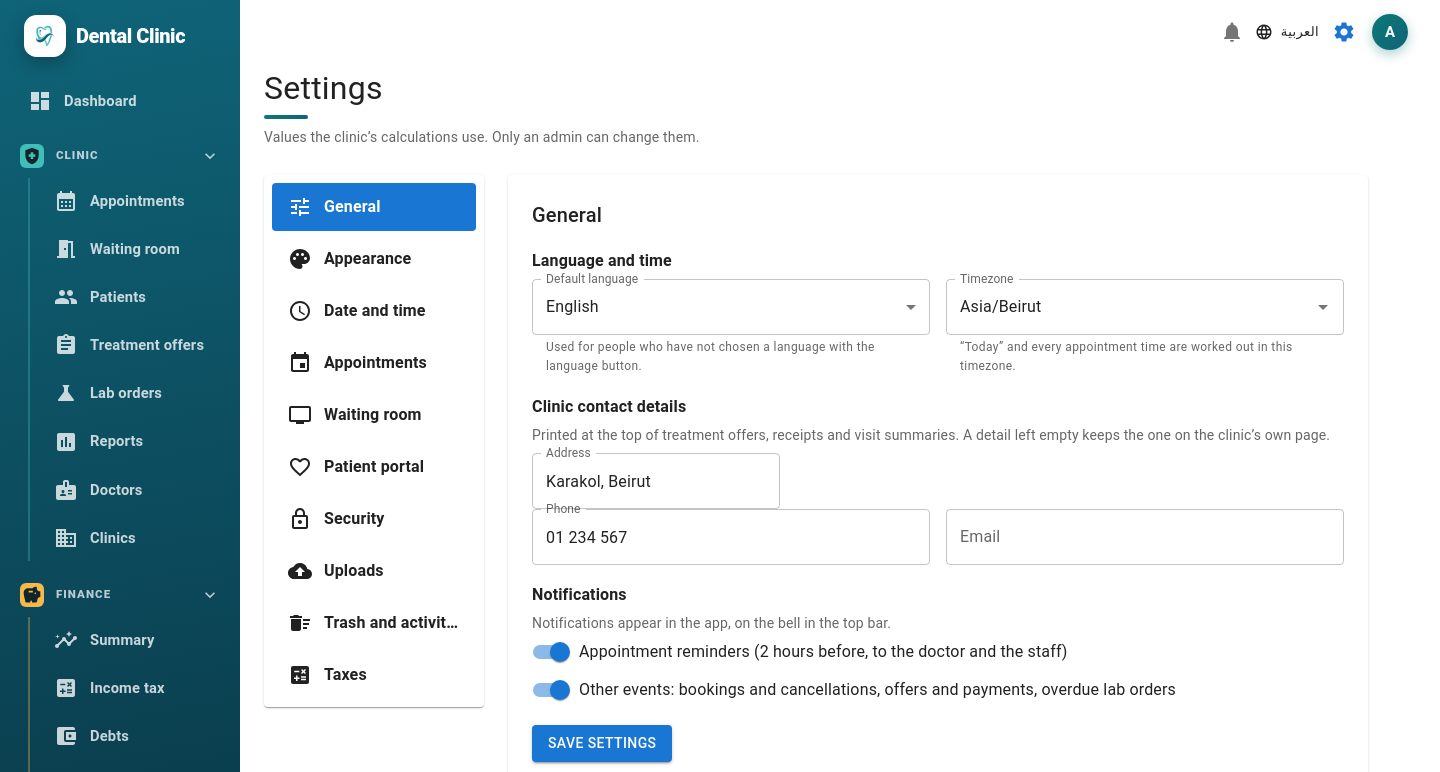
General settings › shows the server’s refusal
The width and height of the screenshot is (1440, 772).
(page scrolled)
Check: the field labelled "Address" is shown, box left=532, top=453, right=780, bottom=509
Click the button "Save settings". click: [602, 744]
box: left=532, top=725, right=672, bottom=762
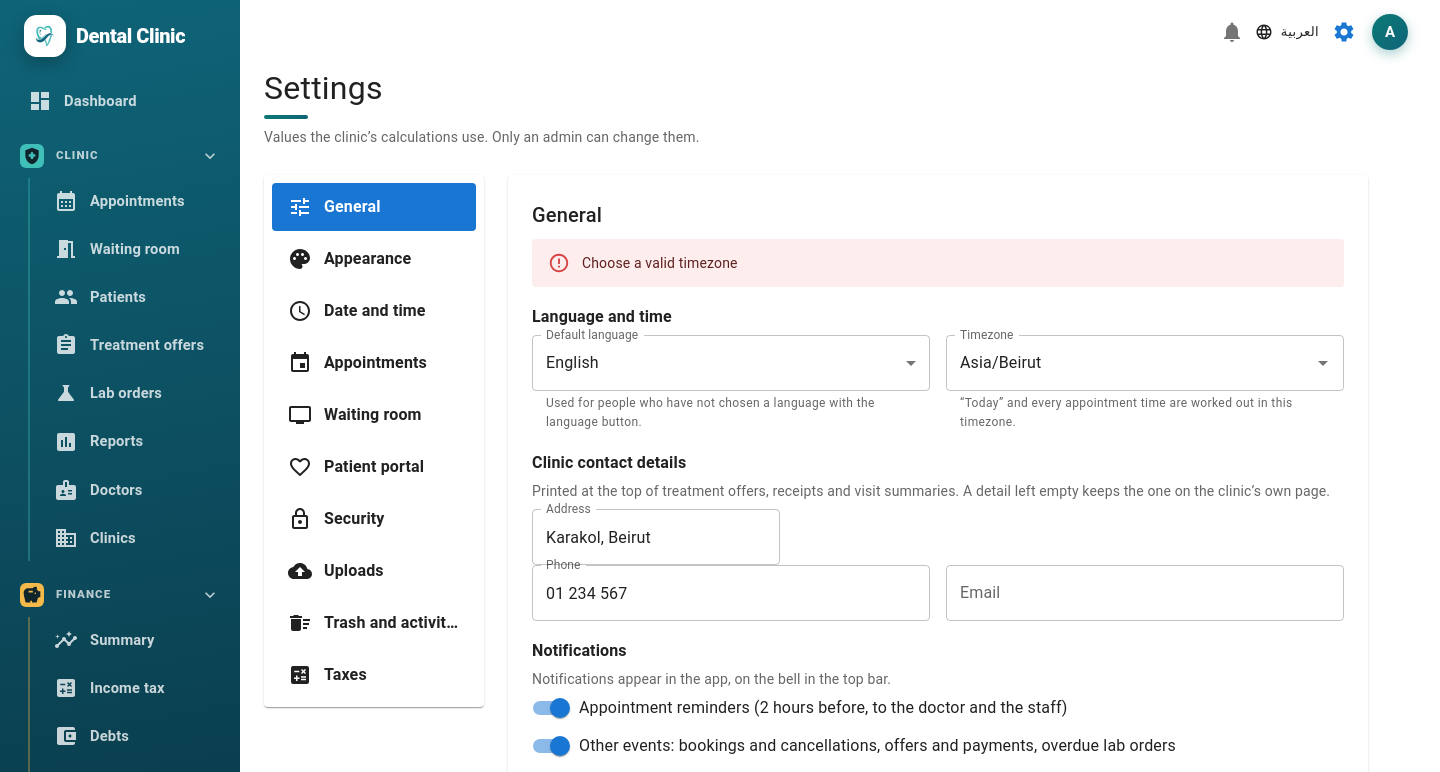
Check: the message reads "Choose a valid timezone", box left=582, top=254, right=738, bottom=270
